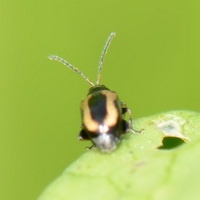insect: (49, 32, 132, 152)
